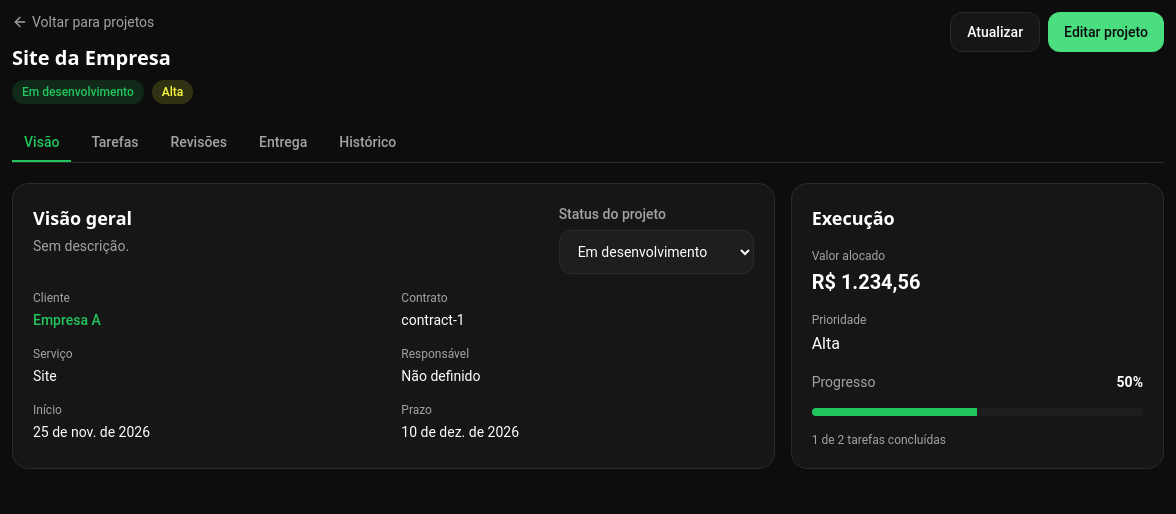
Test case: ProjectDetailPage › renderiza tarefas e revisões nas abas com serviços filhos mockados e uma única ação por estado vazio
Click the tab "Tarefas": {"x": 115, "y": 143} [79,124,150,162]
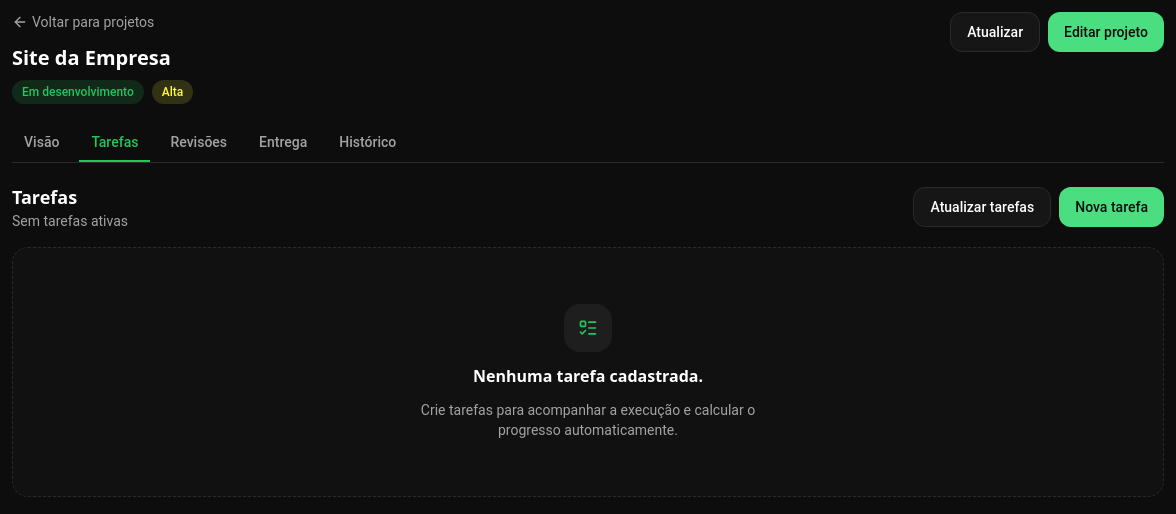
expect the heading "Nenhuma tarefa cadastrada." is shown: met, box [473,364,703,388]
expect the number of buttons "Nova tarefa" is 1: met, box [1059,187,1164,227]
Click the tab "Revisões": {"x": 199, "y": 143} [158,124,239,162]
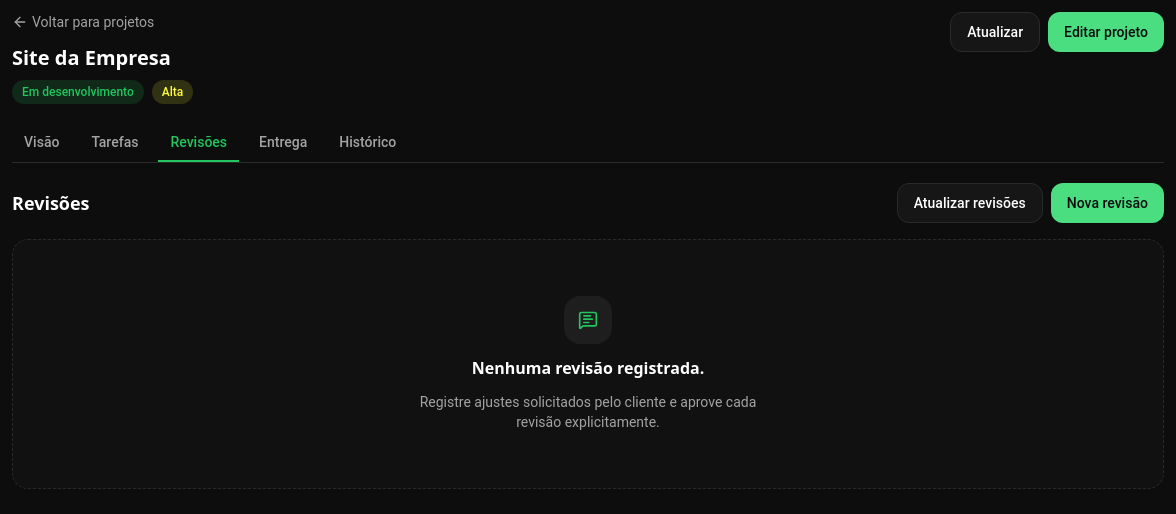
expect the number of buttons "Nova revisão" is 1: met, box [1051,183,1164,223]
expect the heading "Nenhuma revisão registrada." is shown: met, box [472,356,704,380]
